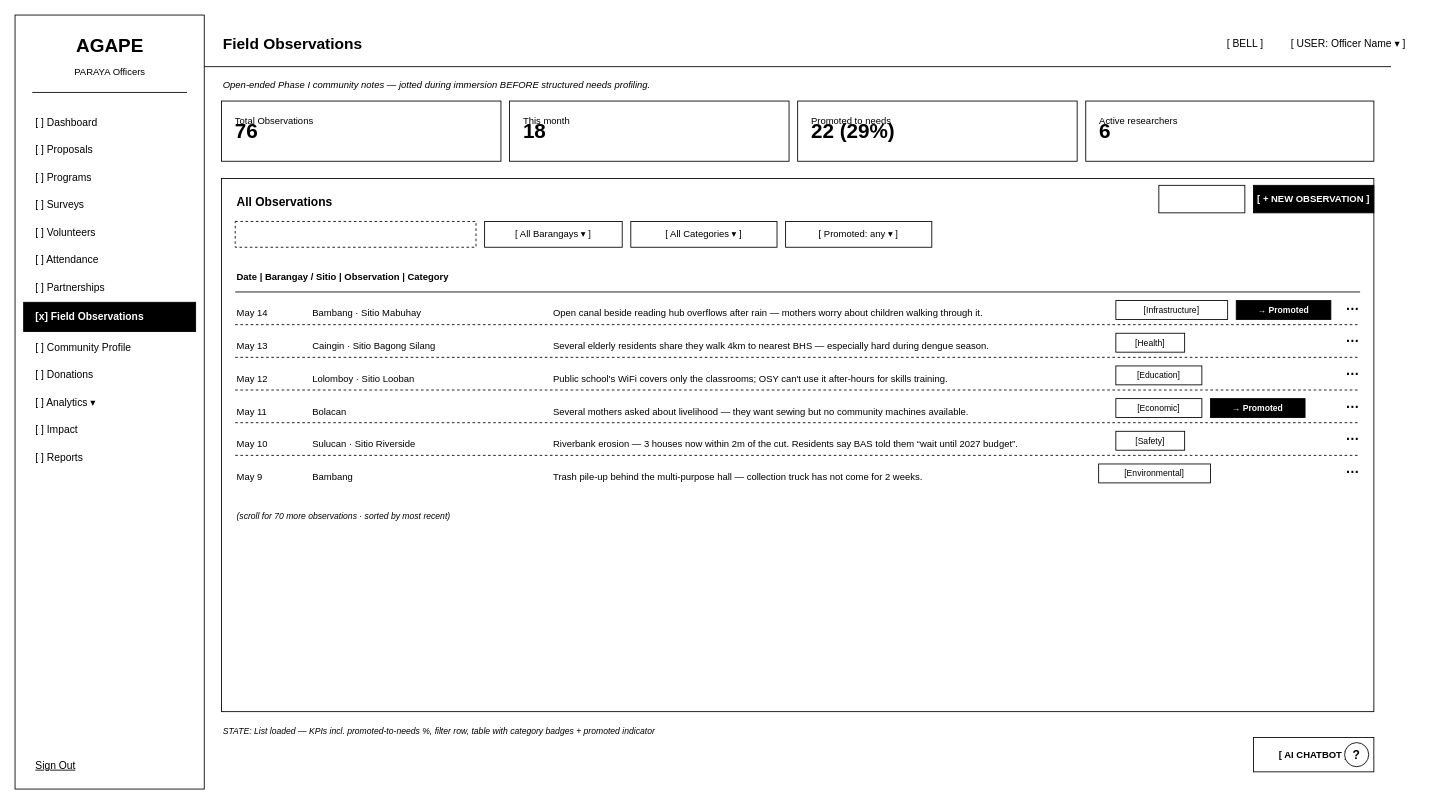
Some shapes in this 1441 by 804 pixel diagram are drawn without their labels. Each missing label, with the centre of its shape:
"[ EXPORT ]" goes at (x=1201, y=198).
"🔍 Search observations + follow-up…" goes at (x=355, y=234).
